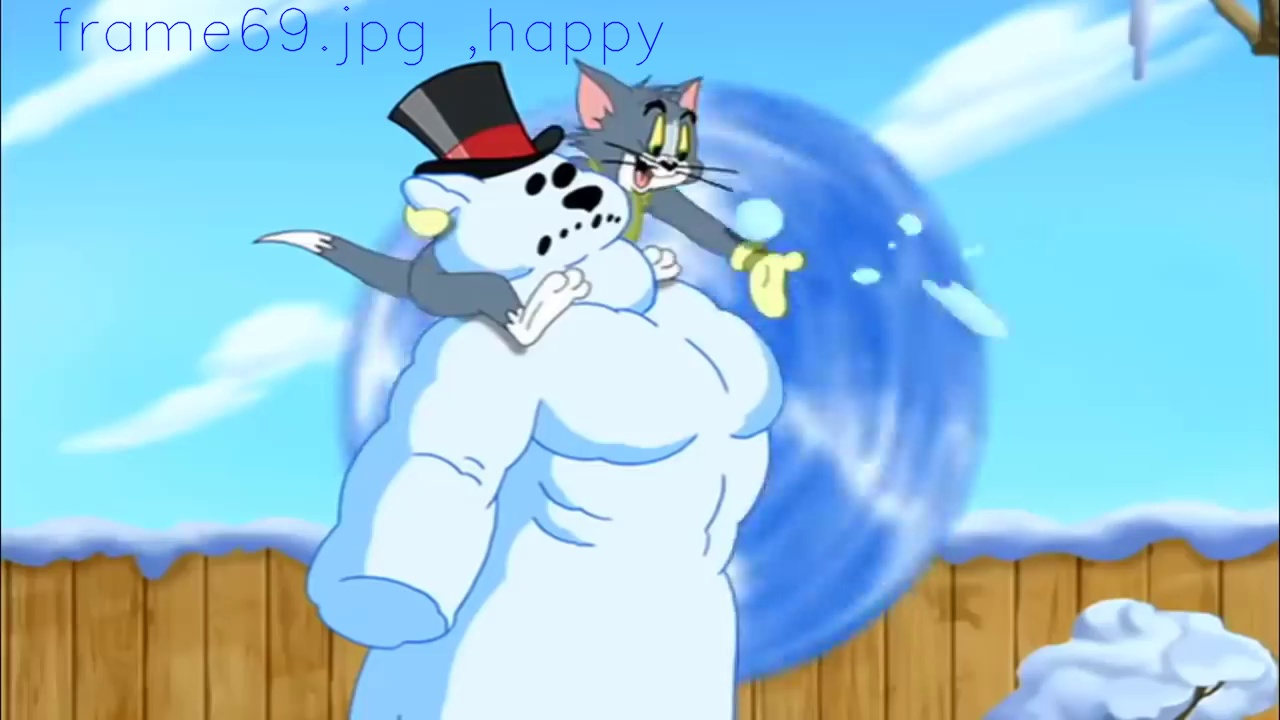happy: (628, 98, 697, 194)
